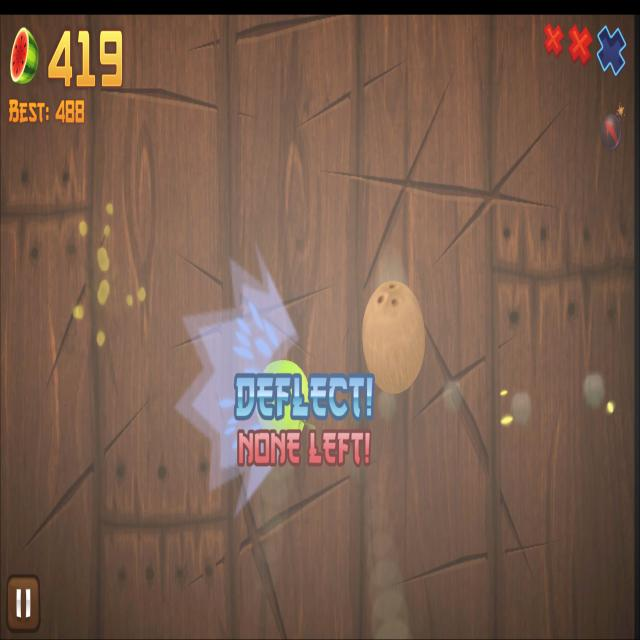fruit: (362, 280, 424, 393), (258, 359, 310, 430)
